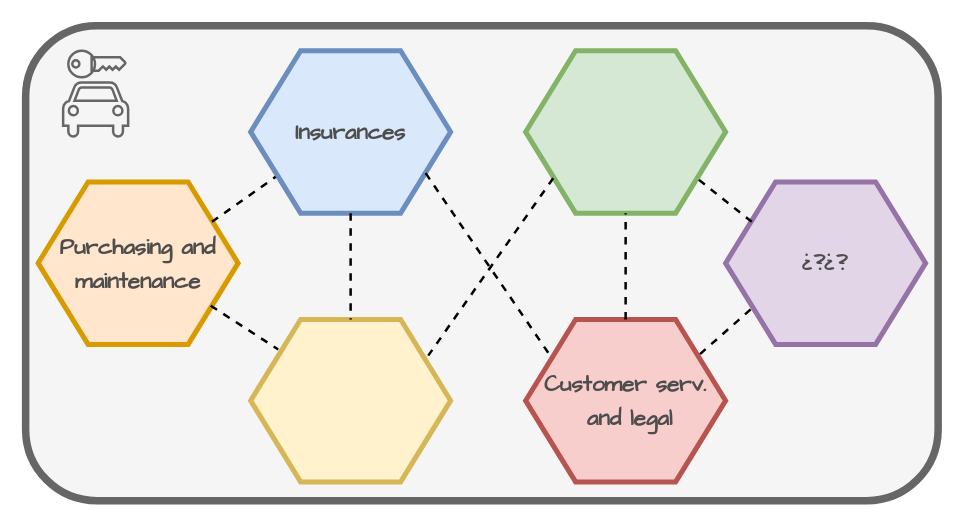
The diagram is 963 pixels wide and 525 high, and some of its shapes have lost their labels. Here are the shapes that lost their labels. From the top down, the centre of each, then its label:
At [625,131]: "Customers and rentals".
At [350,400]: "Marketing and cust. loyalty".
